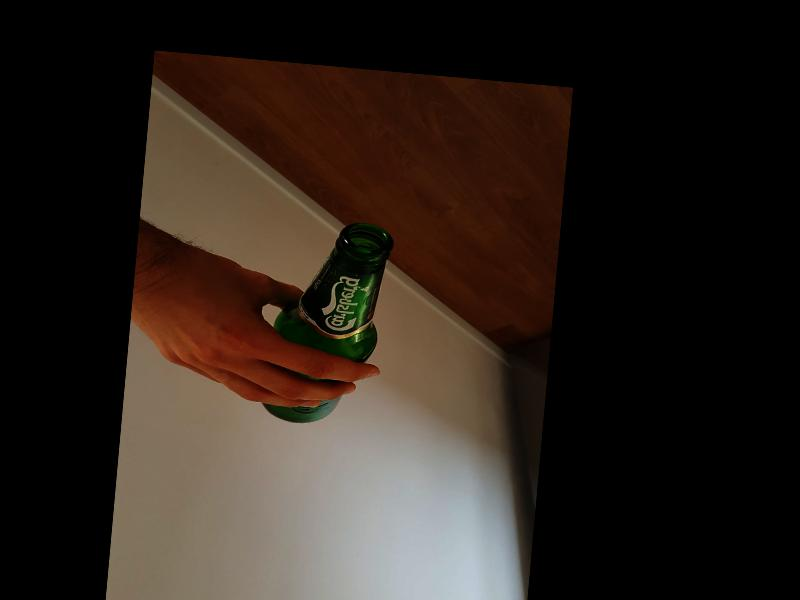Beer: (265, 215, 394, 428)
